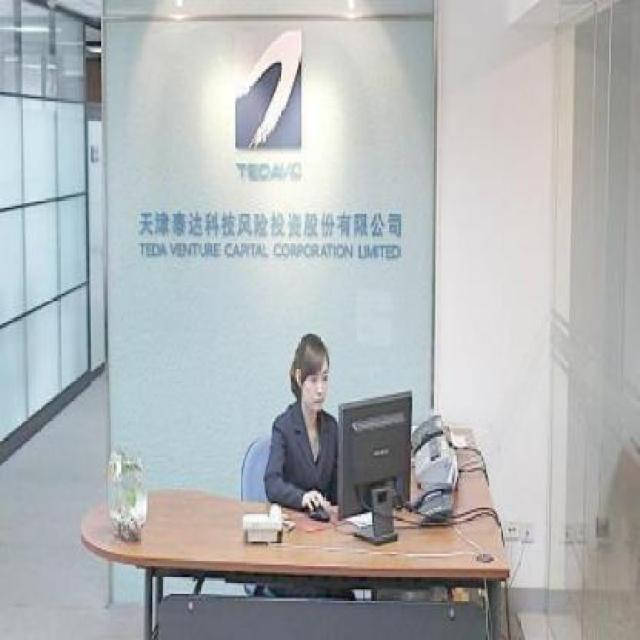frontdesk: (76, 411, 516, 639)
